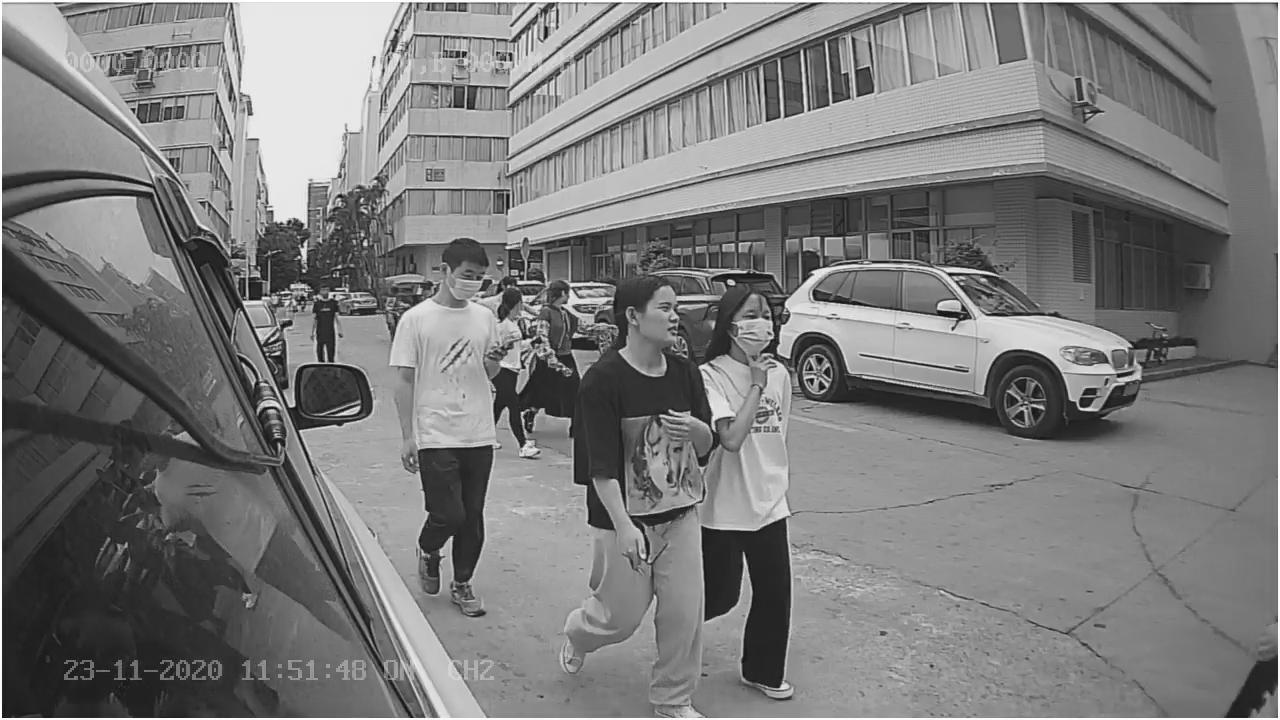person: (554, 263, 715, 715), (385, 236, 509, 617)
